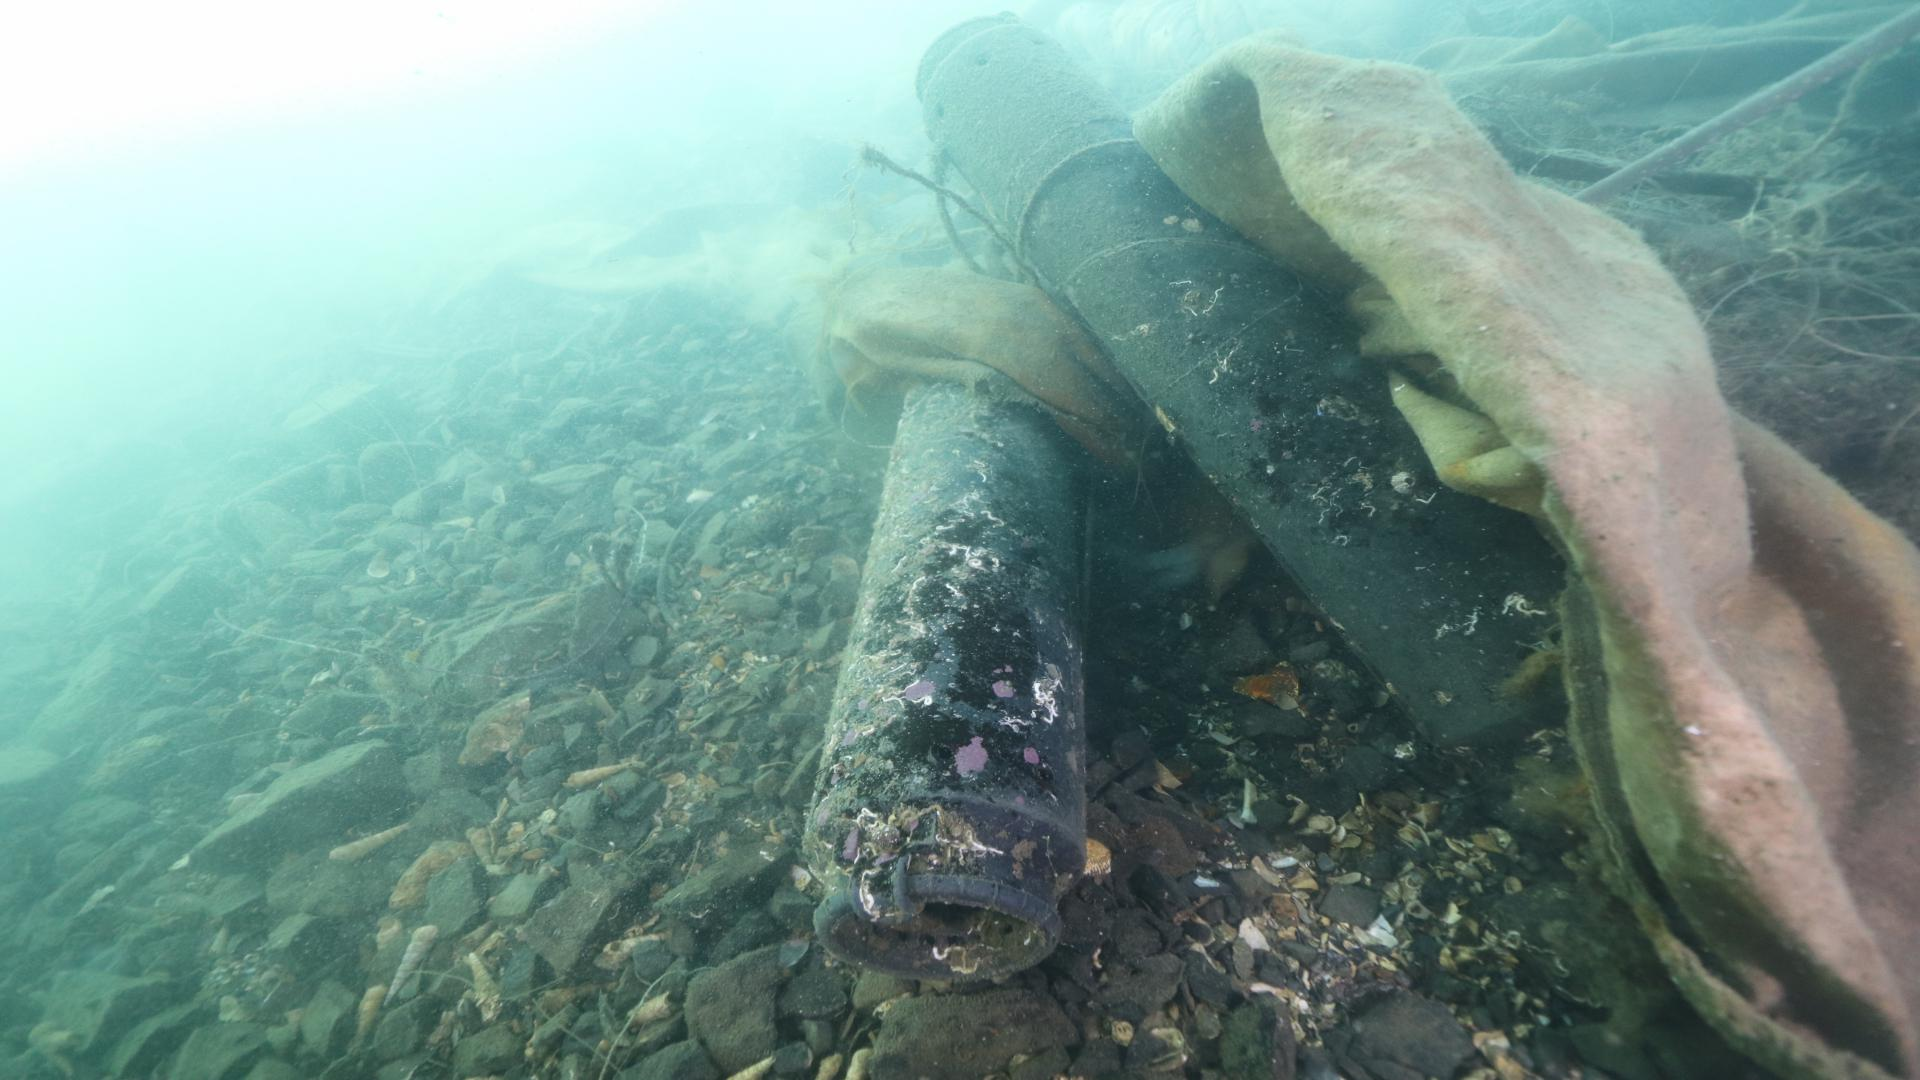bundle of ropes: (882, 132, 1145, 289)
eel fish trap: (910, 12, 1606, 745), (804, 382, 1089, 984)
